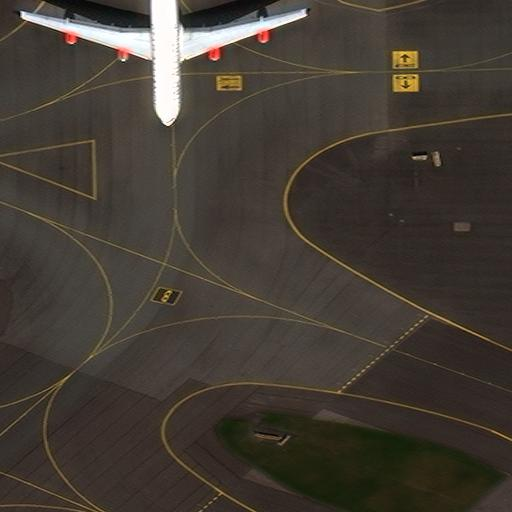Large Civil Transport: (21, 0, 307, 126)
